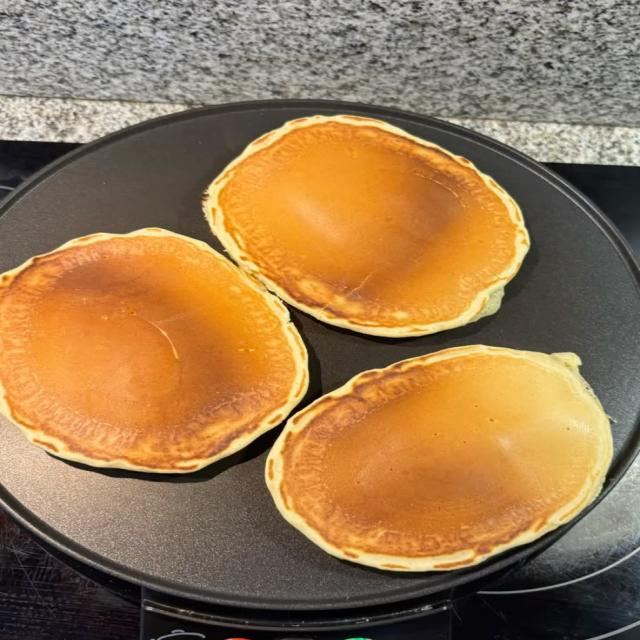pancake: (267, 346, 612, 570), (0, 229, 307, 472), (204, 116, 529, 336)
